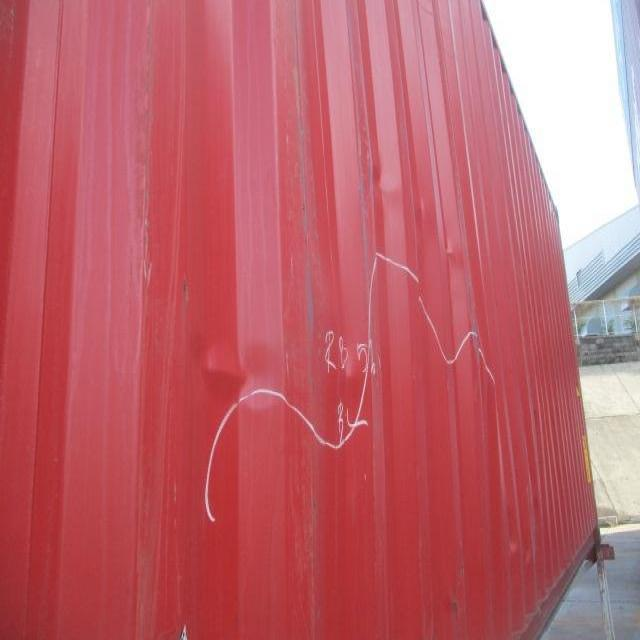Dent: (135, 180, 502, 476)
